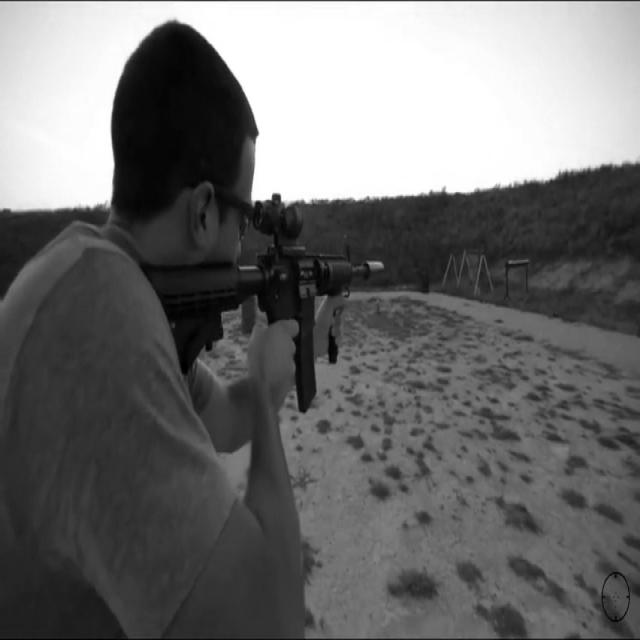Sniper: (99, 108, 433, 492)
